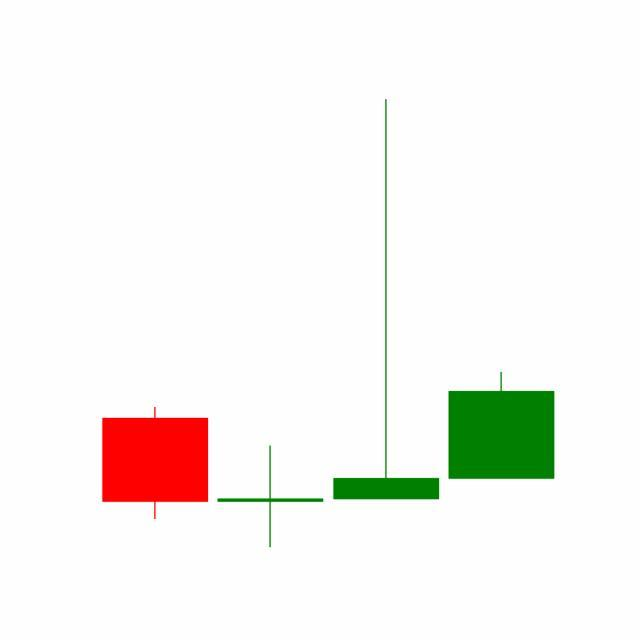Gravestone Doji: (329, 96, 445, 504)
